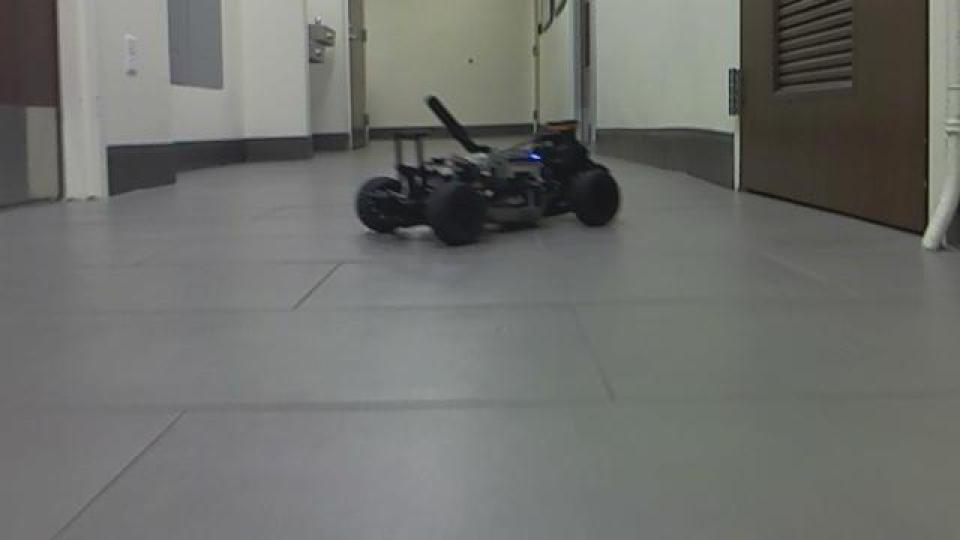car: (351, 92, 623, 248)
